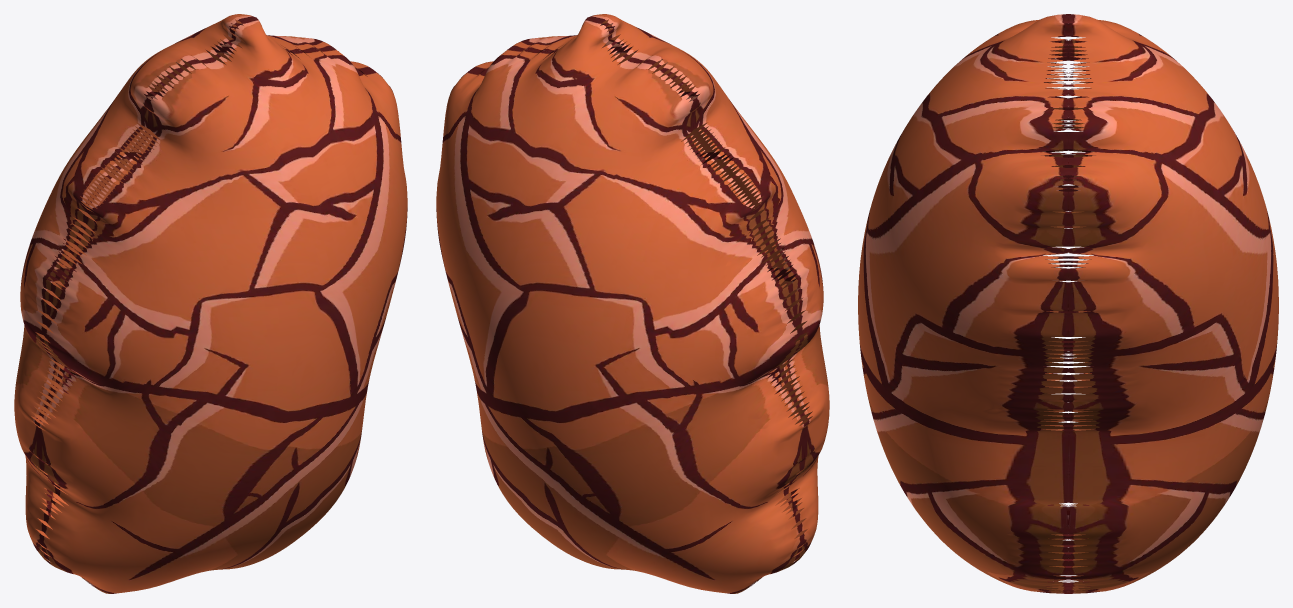
The model's file is fractured_boulder.glb.
The picture shows the model from 3 angles, left to right: view 1: azimuth 30°, elevation 25°; view 2: azimuth 150°, elevation 25°; view 3: azimuth 270°, elevation 25°; orthographic projection. The views are drawn at different scales.
Parts seen in each view (by area): view 1: fractured_boulder; view 2: fractured_boulder; view 3: fractured_boulder.
Part boxes in pixels (x1,y1,x2,y2): fractured_boulder: (14,14,407,593); fractured_boulder: (436,14,829,593); fractured_boulder: (858,14,1278,593).
Size of the model in its own units: 0.9838 by 1.43 by 0.9301.
Materials: 1 (1 with a texture image).
